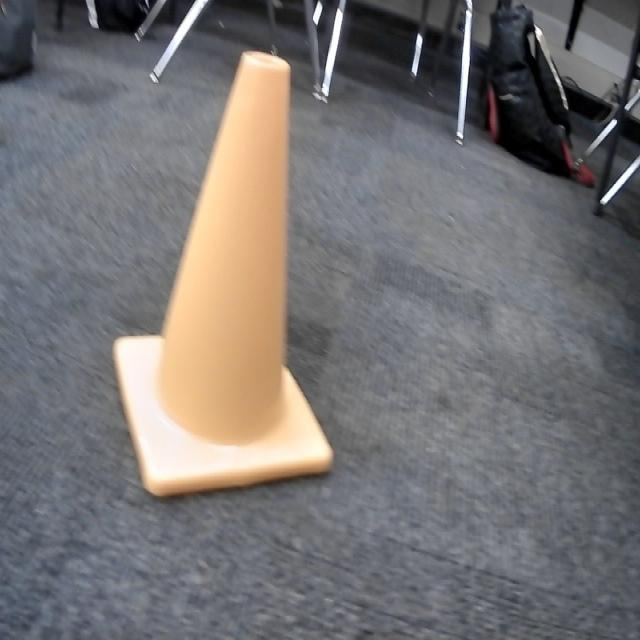cone: (103, 16, 349, 513)
